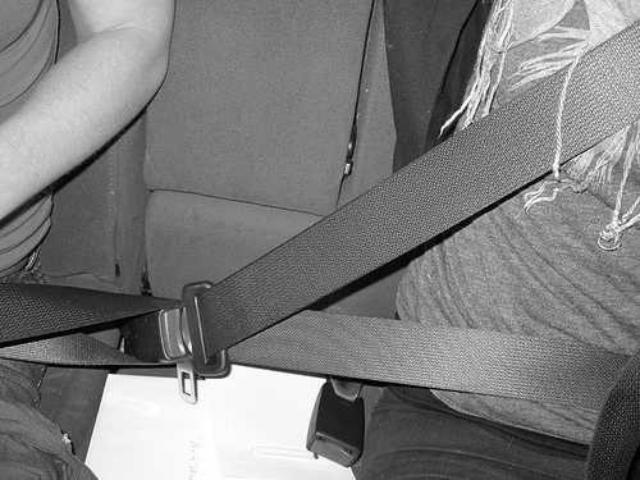Seatbelt: (186, 0, 640, 414)
